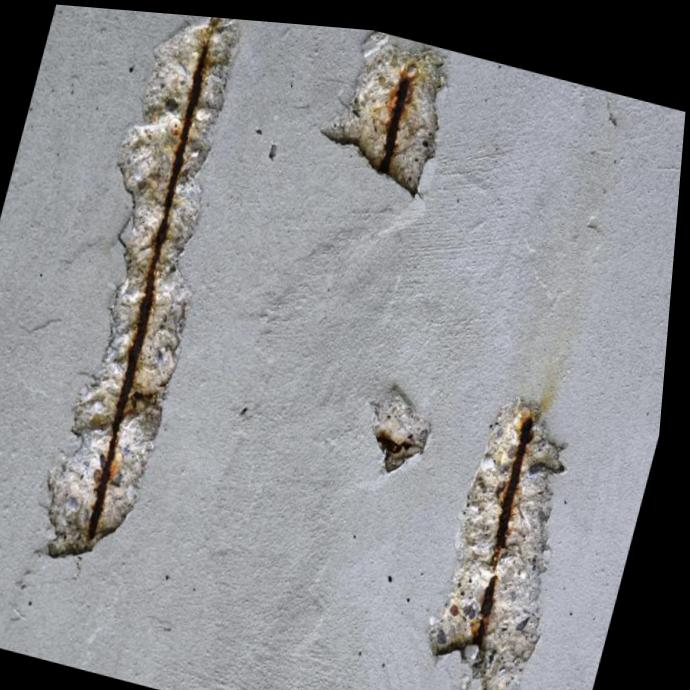damage: (48, 13, 242, 557), (436, 389, 576, 690), (320, 35, 450, 191), (376, 378, 437, 468)
